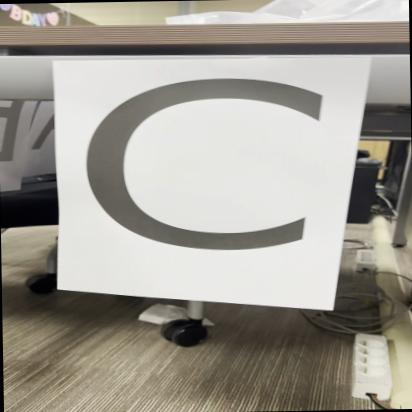seat: (45, 54, 353, 306)
